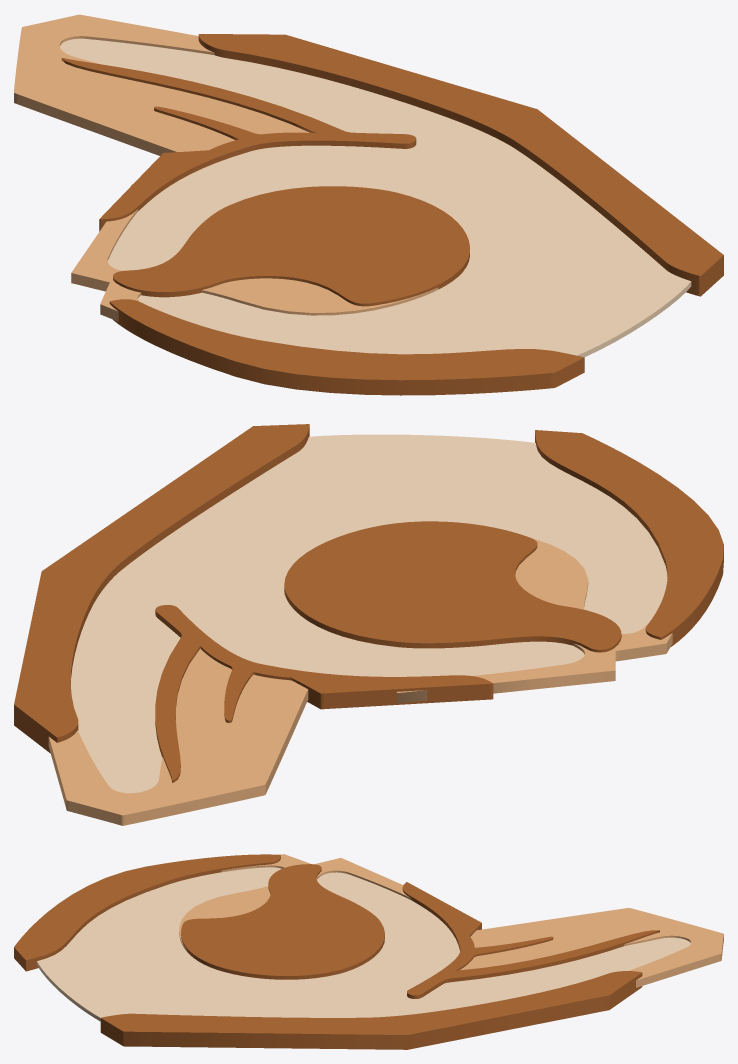
The model's file is emoji_u1f44c_1f3fb.glb.
3 renders of one model, top to bottom at view 1: azimuth 30°, elevation 25°; view 2: azimuth 150°, elevation 25°; view 3: azimuth 270°, elevation 25°, orthographic. The views are drawn at different scales.
Parts seen in each view (by area): view 1: emoji_u1f44c_1f3fb; view 2: emoji_u1f44c_1f3fb; view 3: emoji_u1f44c_1f3fb.
Part boxes in pixels (x1,y1,x2,y2): emoji_u1f44c_1f3fb: [14, 14, 723, 395]; emoji_u1f44c_1f3fb: [14, 424, 723, 825]; emoji_u1f44c_1f3fb: [14, 854, 723, 1049].
Size of the model in its own units: 0.0214 by 0.0008 by 0.0348.
